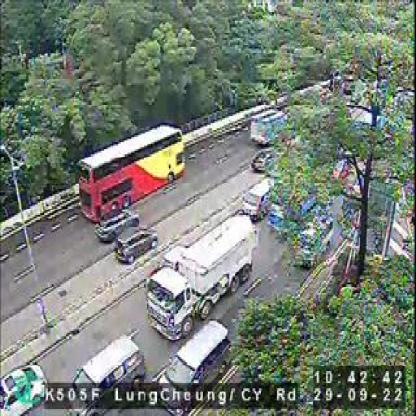Bus: (74, 123, 182, 222)
Car: (153, 317, 233, 413), (68, 333, 144, 414), (0, 352, 46, 414), (240, 171, 284, 222), (116, 220, 157, 269), (97, 200, 141, 244), (247, 147, 281, 168)
Truck: (143, 211, 256, 338), (247, 104, 295, 142)
